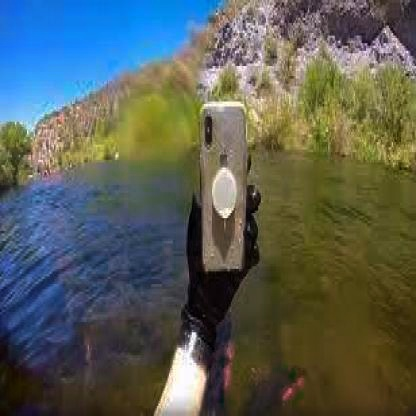cellphone: (197, 94, 253, 281)
